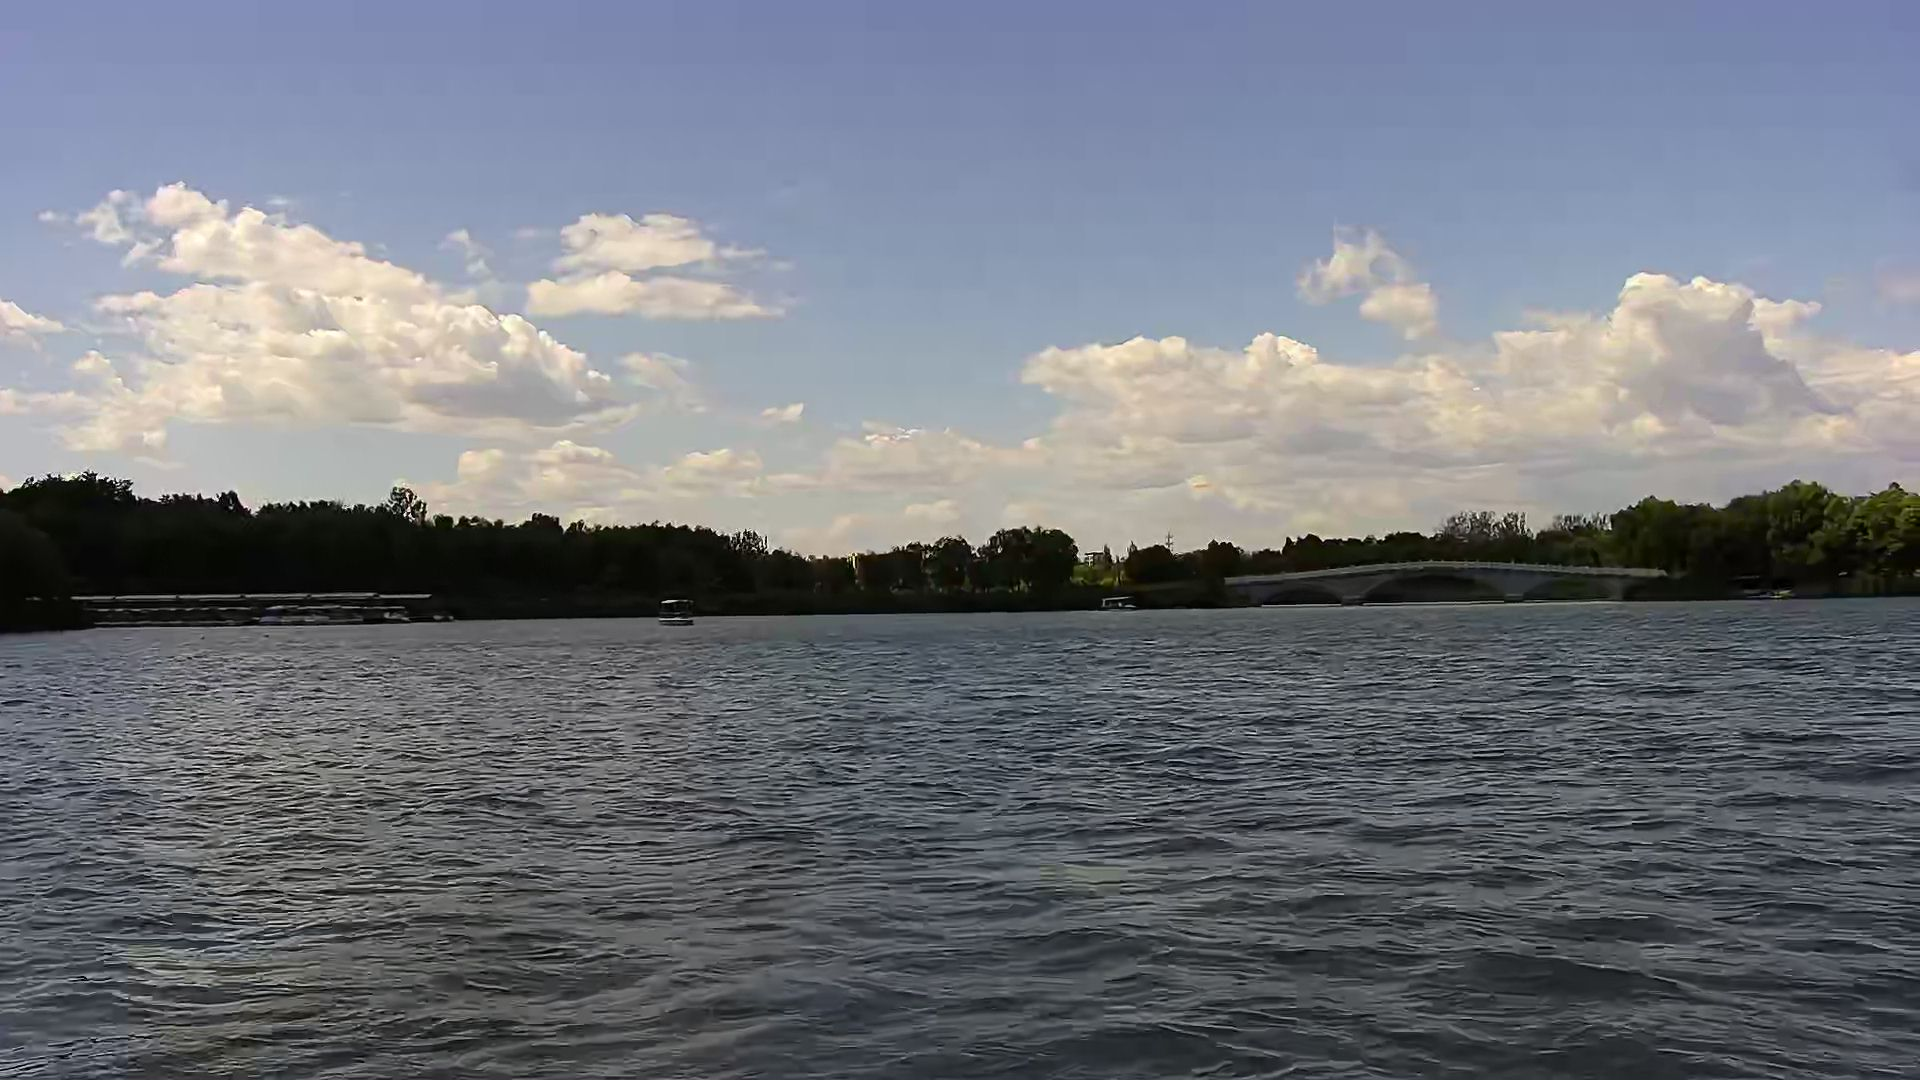boat: (651, 595, 704, 629)
bridge: (1218, 558, 1673, 601)
harbor: (65, 589, 444, 626)
